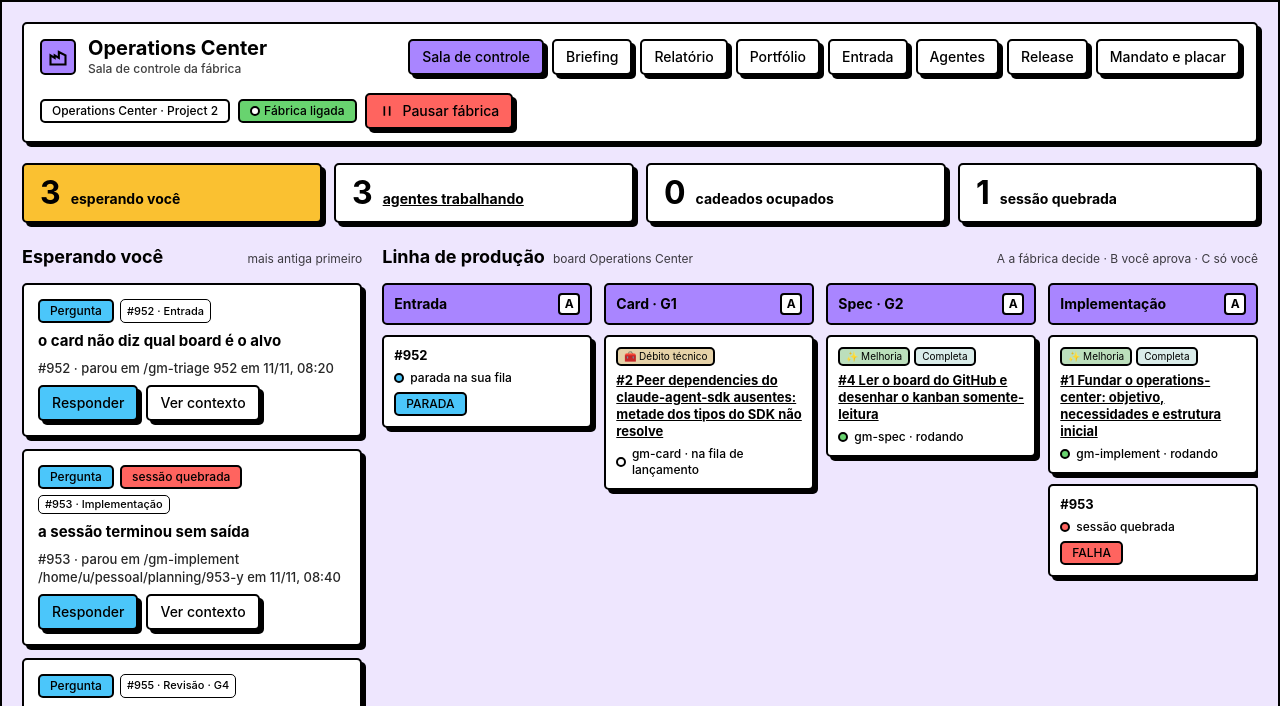
Test: Agentes · crachá e sessões fora do yarn fabrica (CA-2.3) › mostra "1 de 3 sessões" e esconde o aviso quando as vivas são as da tabela
Step 1. Click the button with test id "fabrica-nav-agentes" → (957, 56), box [916, 38, 999, 74]
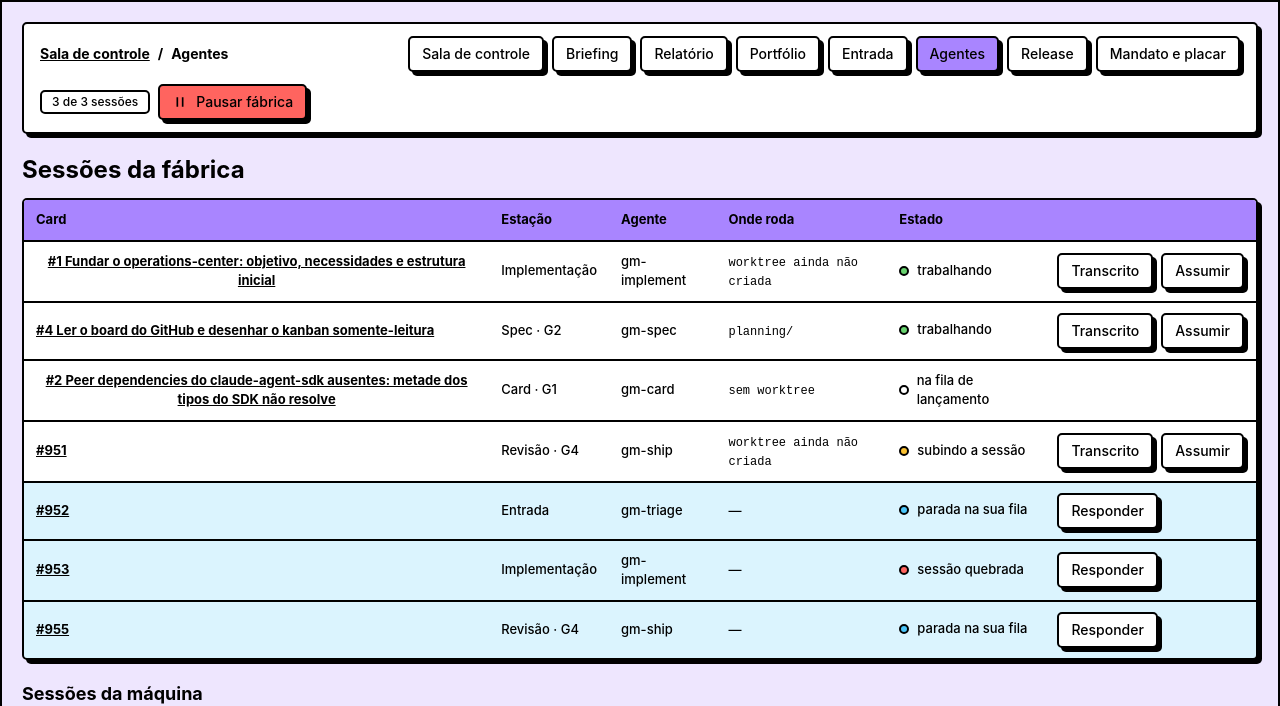
Expected: the text "Peer dependencies" is shown, [36, 370, 477, 410]
Now the text with test id "fabrica-sessoes" reads "3 de 3 sessões", box [52, 94, 138, 109]
